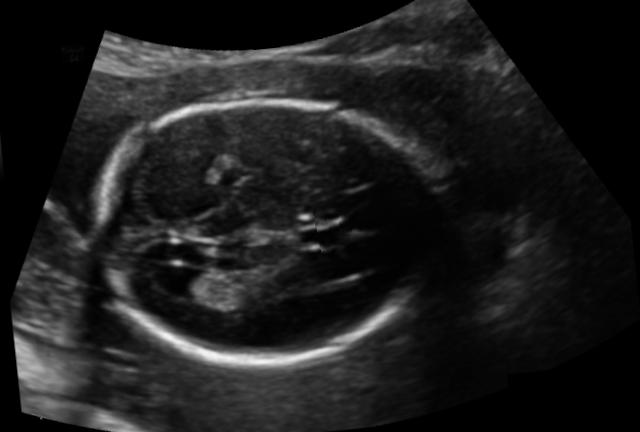CHOROID_PLEXUS: (182, 244, 288, 336)
CSP: (312, 192, 400, 261)
MIDLINE_FALX: (105, 163, 468, 278)
